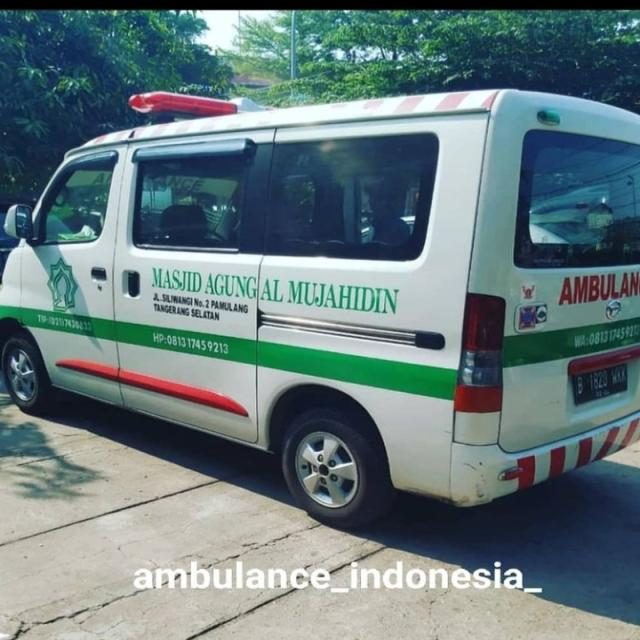emergency-vehicle: (8, 94, 639, 526)
